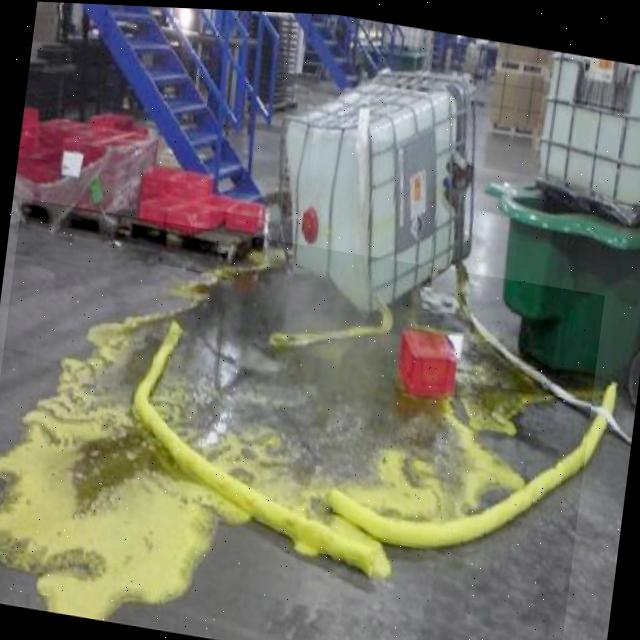spillage: (0, 267, 589, 618)
